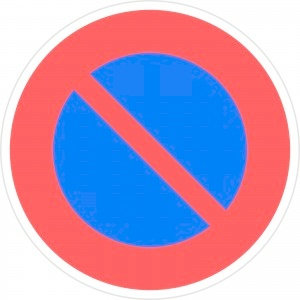Prohibition_sign: (4, 1, 298, 299)
